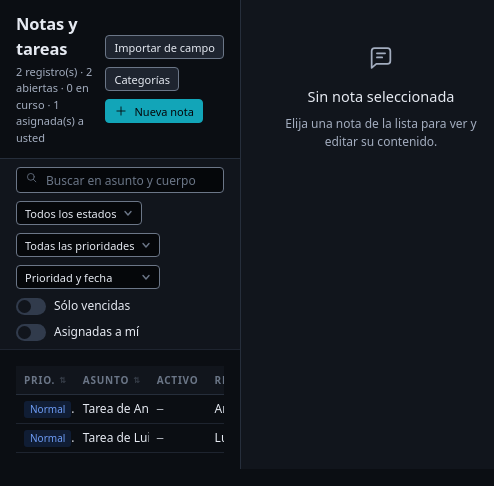
Test: filtro de tareas propias › filtra por el mismo identificador que se guarda al asignar
The image size is (494, 486).
Click the switch labelled "Asignadas a mí". click: (78, 332)
box: [16,323,139,341]
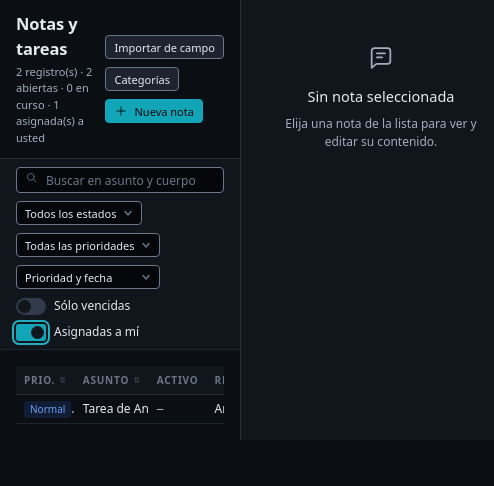
Expected: the text "Tarea de Ana" is shown, [83,400,149,418]
Result: the text "Tarea de Luis" is gone
